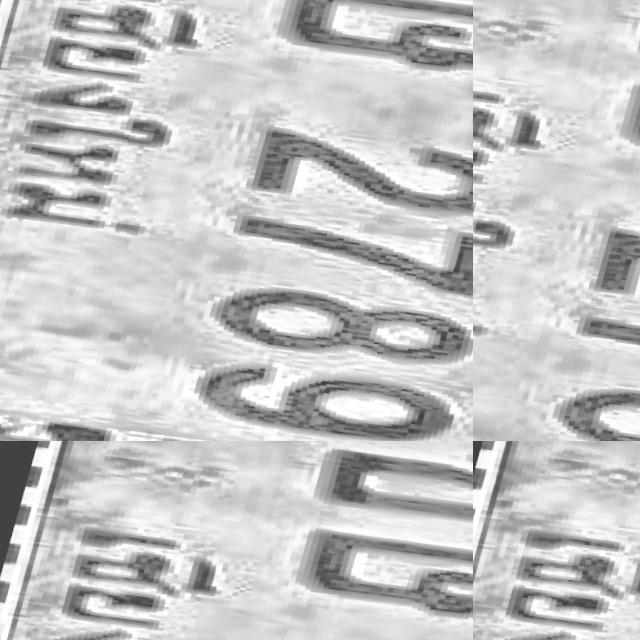license-plate: (473, 441, 640, 640), (557, 0, 640, 349)
